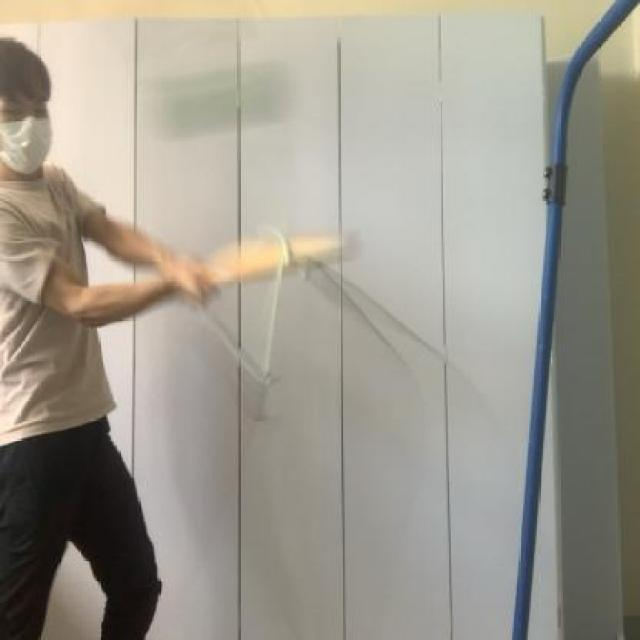baseball: (122, 42, 298, 153)
